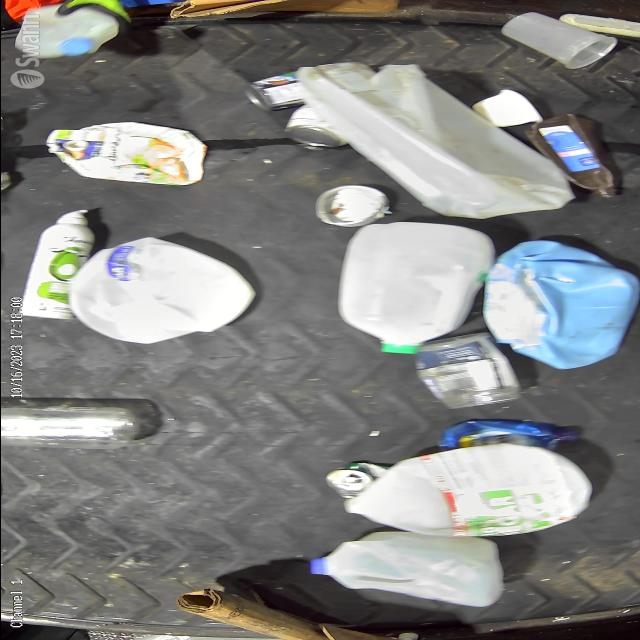can: (411, 329, 525, 411), (324, 455, 394, 504), (238, 66, 306, 116), (284, 106, 354, 154)
milk_jug: (298, 62, 562, 216), (346, 445, 590, 536), (333, 223, 488, 359), (67, 235, 259, 344), (298, 532, 522, 605), (12, 2, 136, 62)
non_white_jug: (482, 245, 640, 365)
plastic_bottle: (0, 394, 157, 451)
